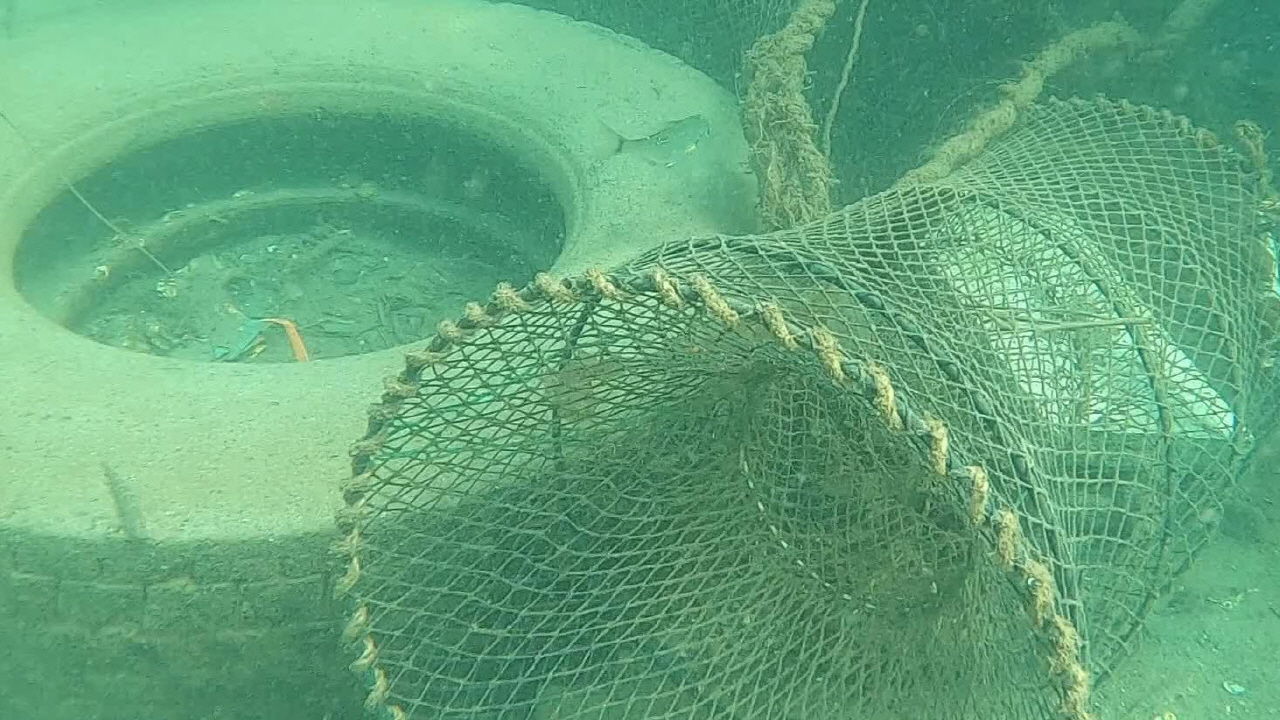bundle of ropes: (772, 0, 1214, 185)
spring fish trap: (324, 95, 1280, 720)
tire: (0, 0, 759, 720)
